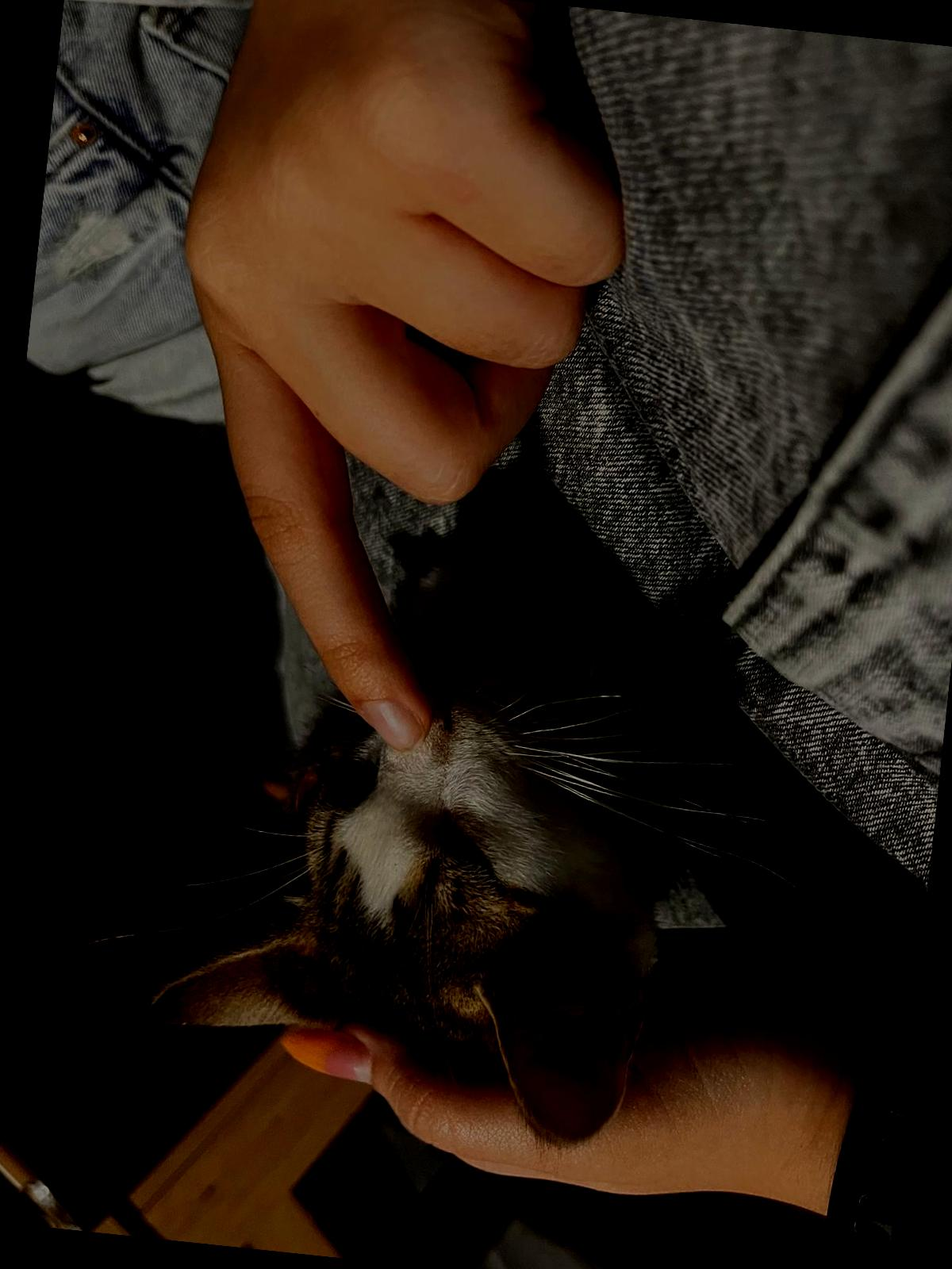macka: (127, 492, 763, 1159)
